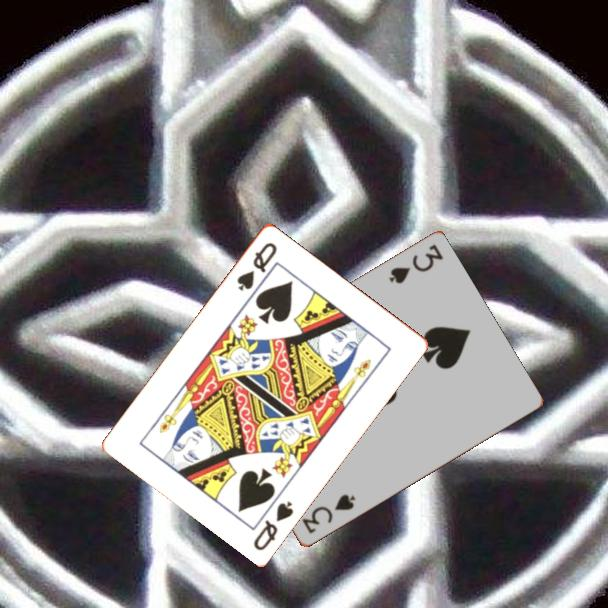s03: (385, 241, 446, 287), (298, 491, 358, 537)
s12: (233, 238, 280, 294), (250, 496, 296, 553)
